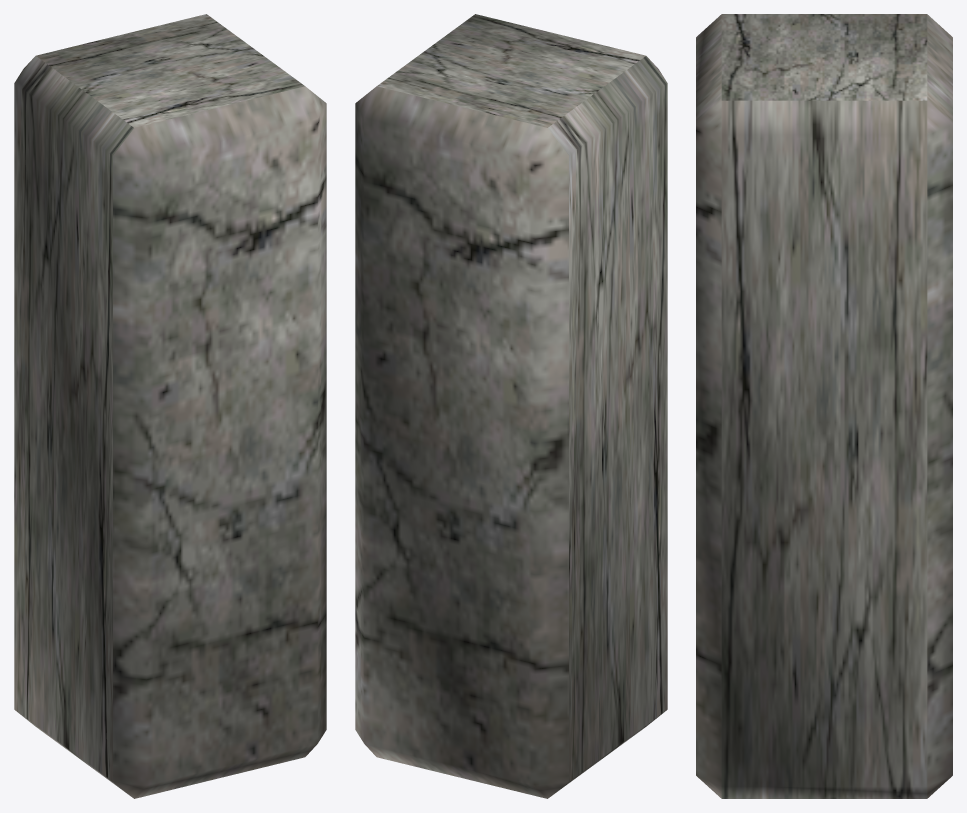
Rendered from BLOCK04.fbx.
The picture shows the model from 3 angles, left to right: view 1: azimuth 30°, elevation 25°; view 2: azimuth 150°, elevation 25°; view 3: azimuth 270°, elevation 25°; orthographic projection. The views are drawn at different scales.
Visible parts, largest first — view 1: BLOCK04; view 2: BLOCK04; view 3: BLOCK04.
Boxes of the visible parts, x1,y1,x2,y2 form: BLOCK04: (14, 14, 326, 798); BLOCK04: (355, 14, 667, 798); BLOCK04: (696, 14, 952, 798).
Size of the model in its own units: 10000 by 30000 by 10000.
Materials: 1 (1 with a texture image).
